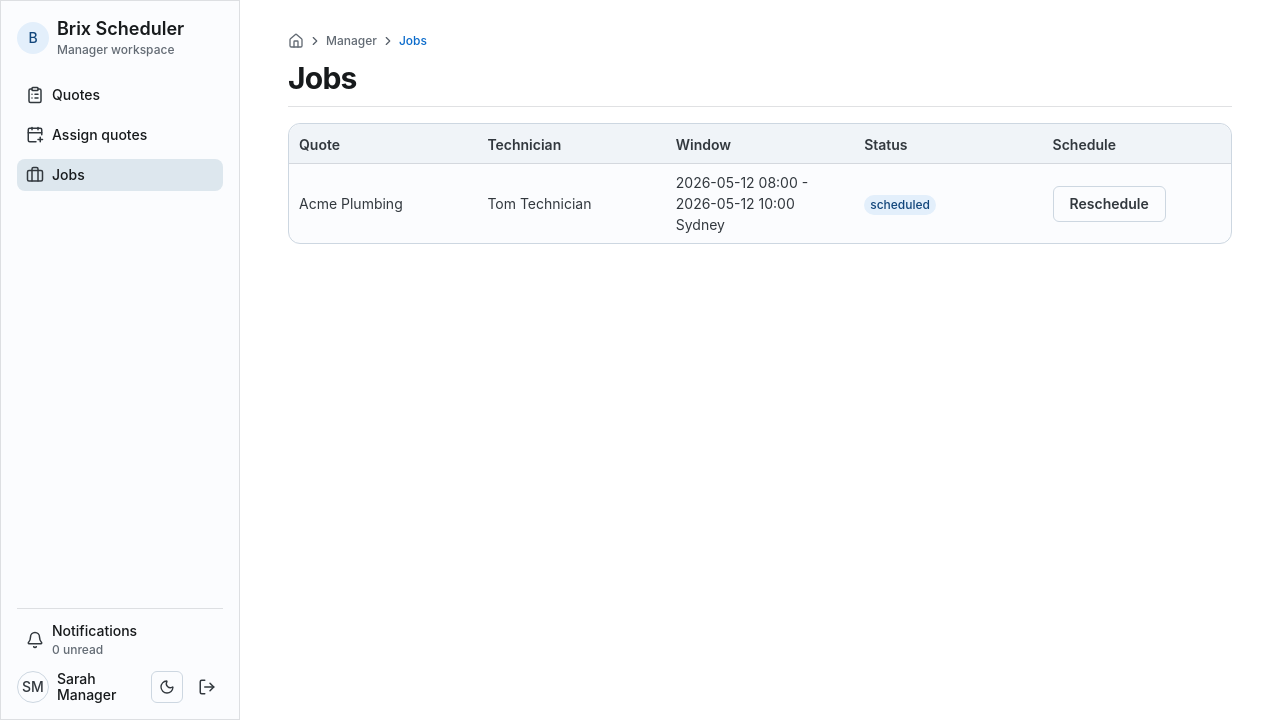
it: manager dashboard › Reschedule dialog closes from Escape and cancel actions
Click the button with aria-label "reschedule acme plumbing" at (1109, 204), box [1053,186,1166,222]
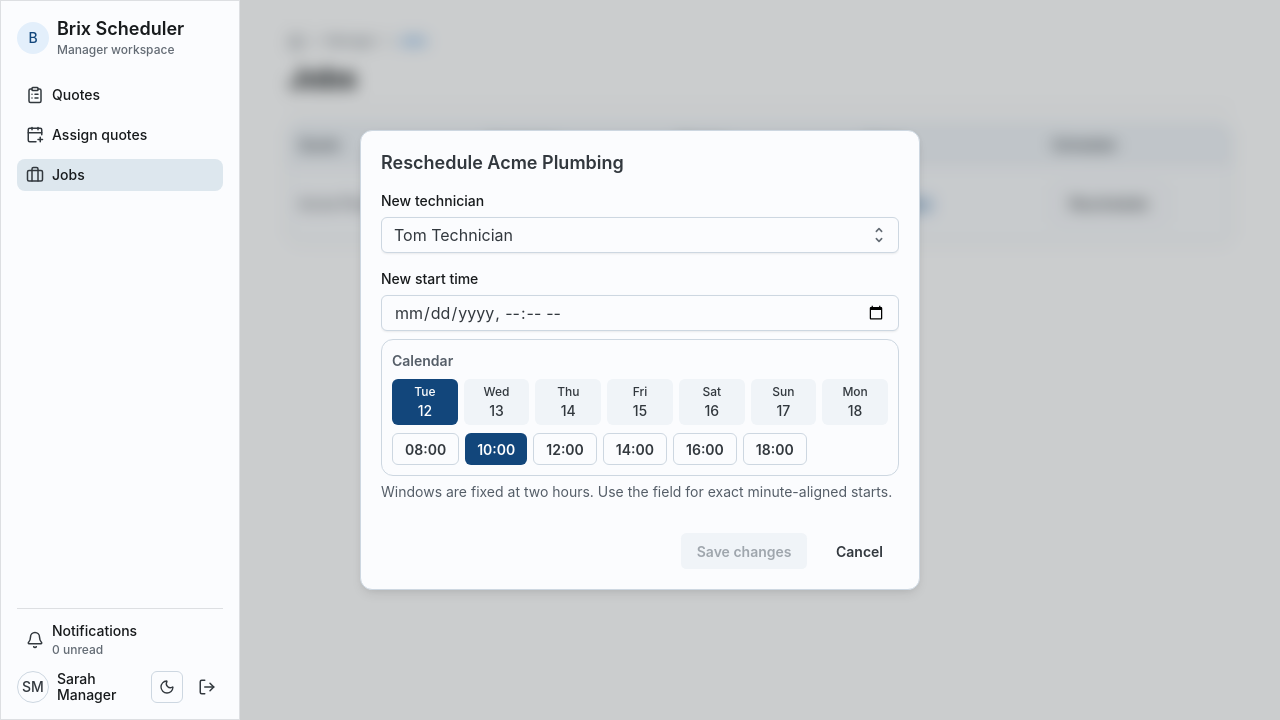
Press Escape
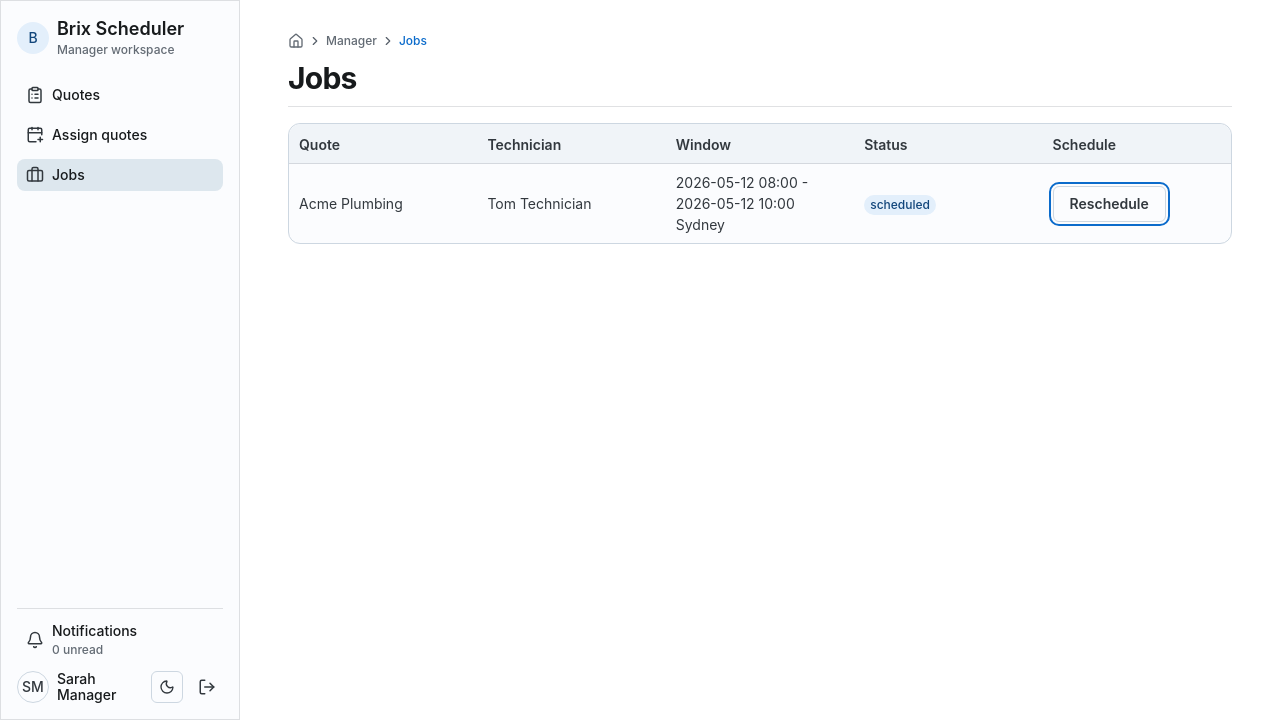
Result: the heading "Reschedule Acme Plumbing" is gone
Click the button with aria-label "reschedule acme plumbing" at (1109, 204), box [1053,186,1166,222]
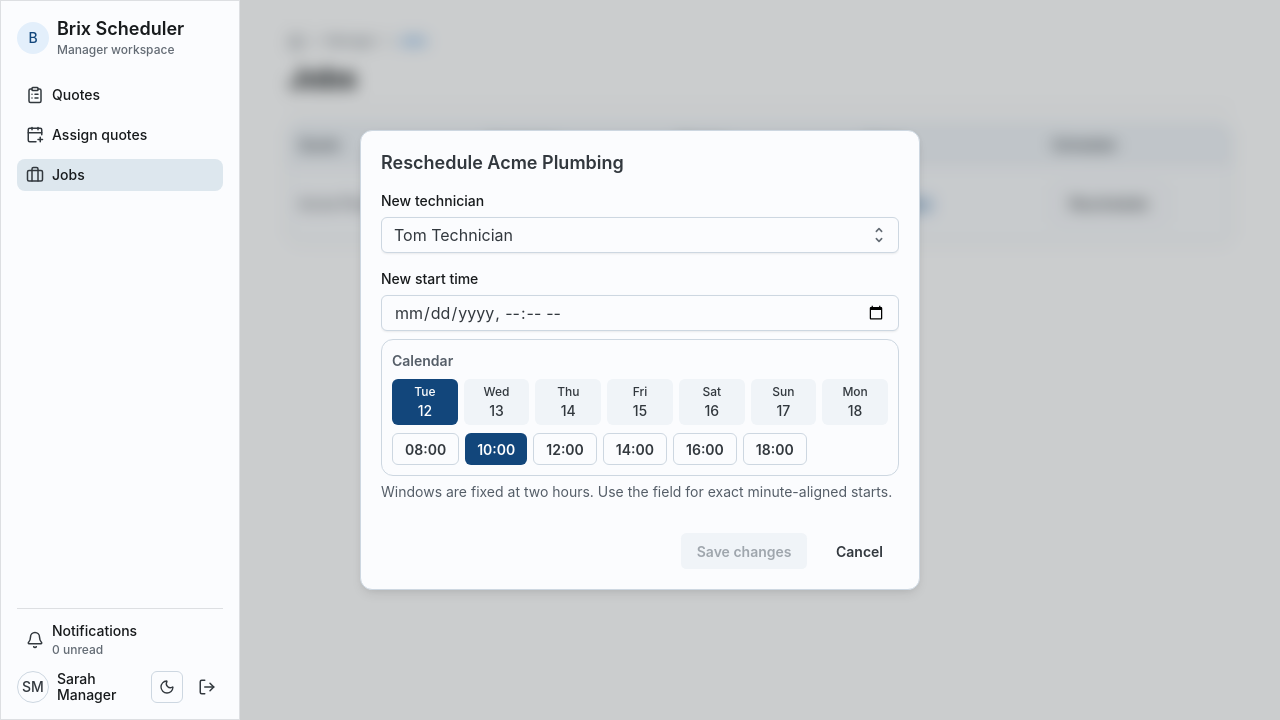
Click the button "Cancel" at (860, 551), box [820,533,899,569]
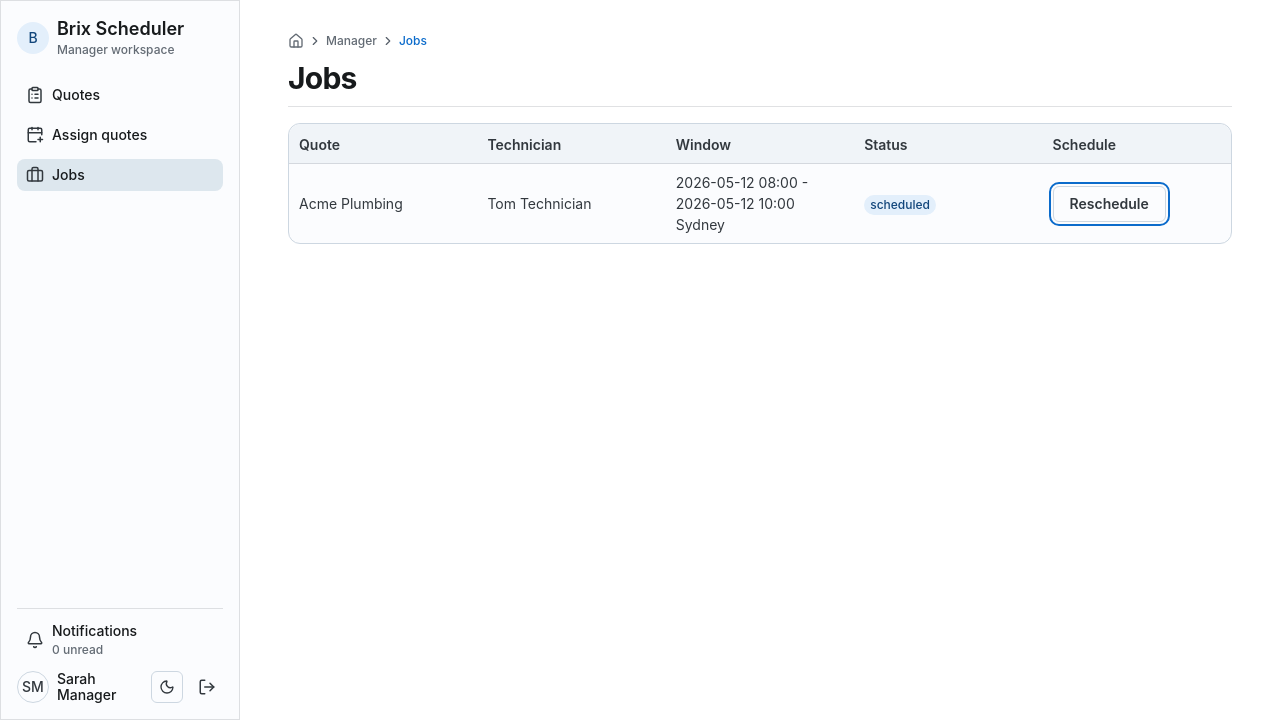
Result: the heading "Reschedule Acme Plumbing" is gone
